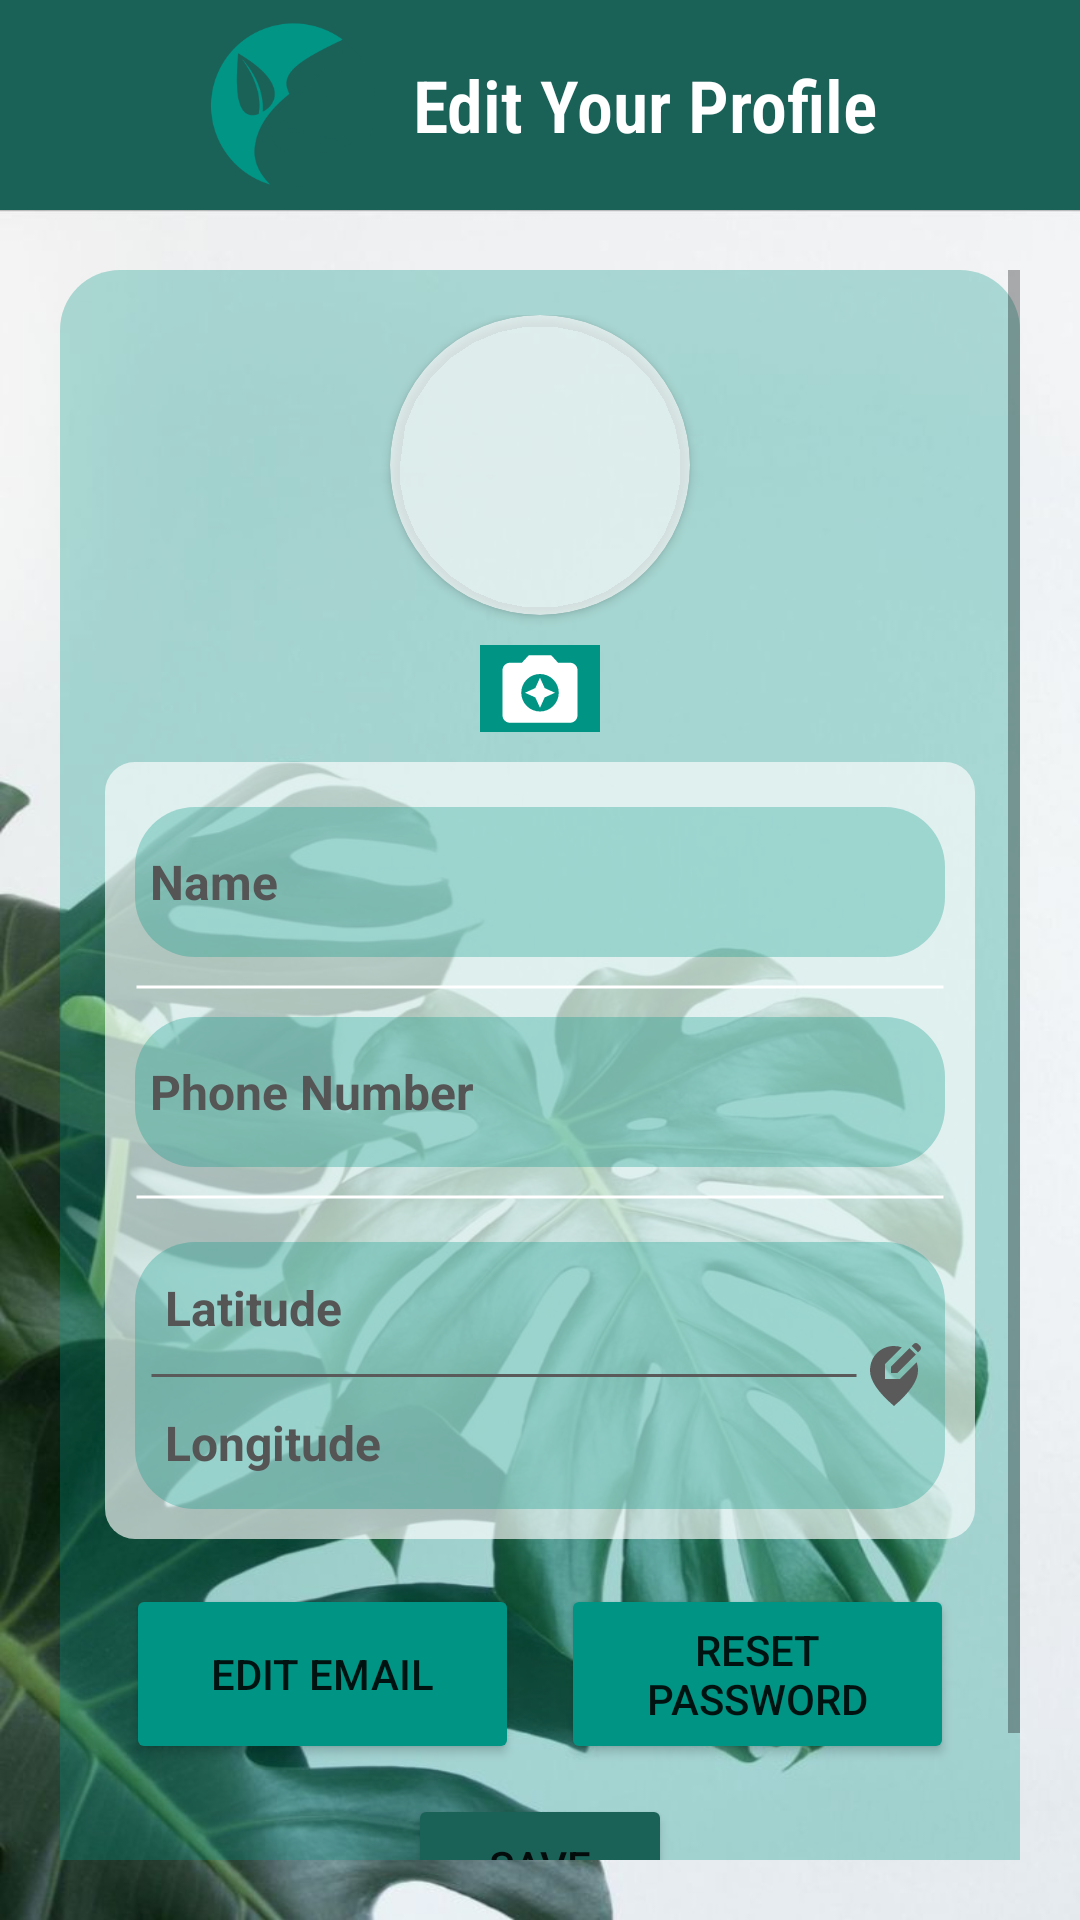

Icon click points for this 1080w x 1920h phone screenshot, format (x=x, y=y):
camera: (x=540, y=688)
